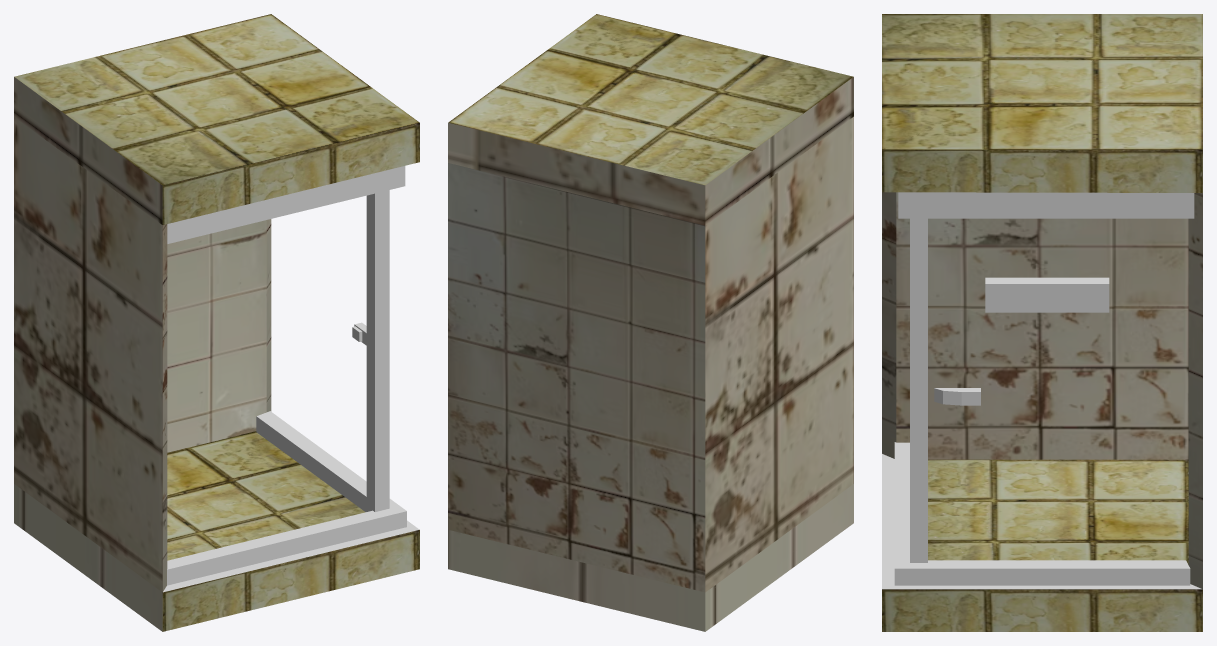
File: shower.fbx
The picture shows the model from 3 angles, left to right: view 1: azimuth 30°, elevation 25°; view 2: azimuth 150°, elevation 25°; view 3: azimuth 270°, elevation 25°; orthographic projection. The views are drawn at different scales.
Parts seen in each view (by area): view 1: Base_ducha; view 2: Base_ducha; view 3: Base_ducha.
Boxes of the visible parts, x1=… form: Base_ducha: x1=14, y1=14, x2=419, y2=631; Base_ducha: x1=448, y1=14, x2=853, y2=631; Base_ducha: x1=882, y1=14, x2=1202, y2=631.
Size of the model in its own units: 319 by 529 by 319.
